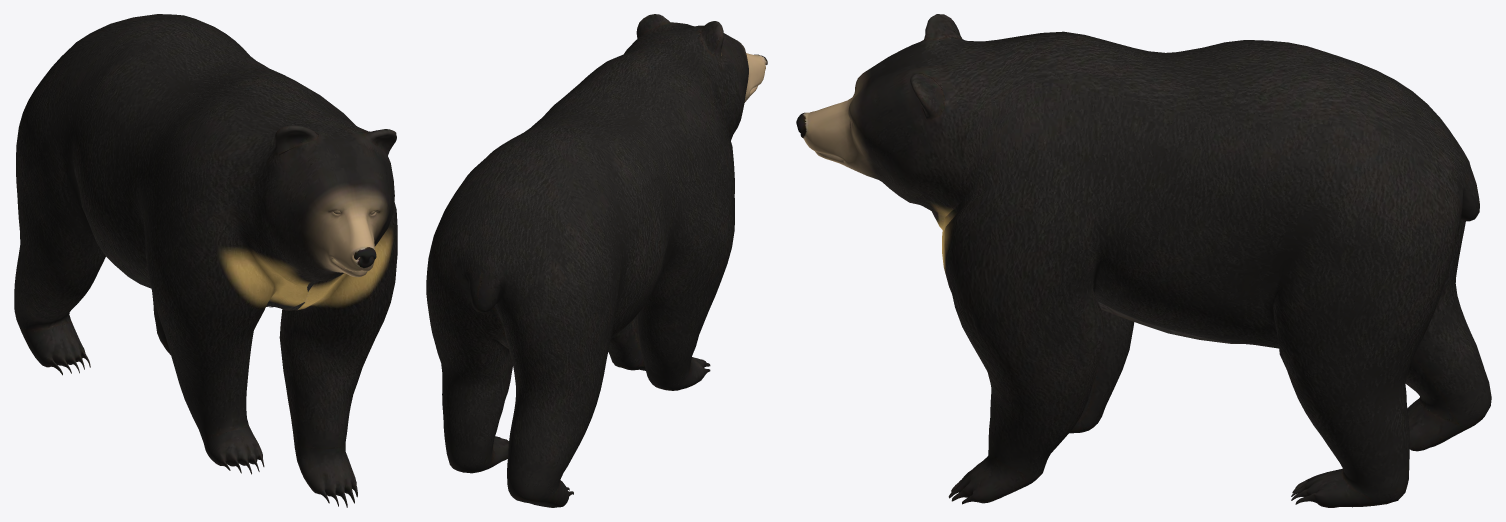
File: ccby-sun-bear.glb
The picture shows the model from 3 angles, left to right: view 1: azimuth 30°, elevation 25°; view 2: azimuth 150°, elevation 25°; view 3: azimuth 270°, elevation 25°; orthographic projection. The views are drawn at different scales.
Visible parts, largest first — view 1: Object_237; view 2: Object_237; view 3: Object_237.
Boxes of the visible parts, x1,y1,x2,y2 form: Object_237: (14, 14, 397, 507); Object_237: (426, 14, 767, 507); Object_237: (796, 14, 1491, 507).
Size of the model in its own units: 51.71 by 96.49 by 135.
1 material, 1 textured.
